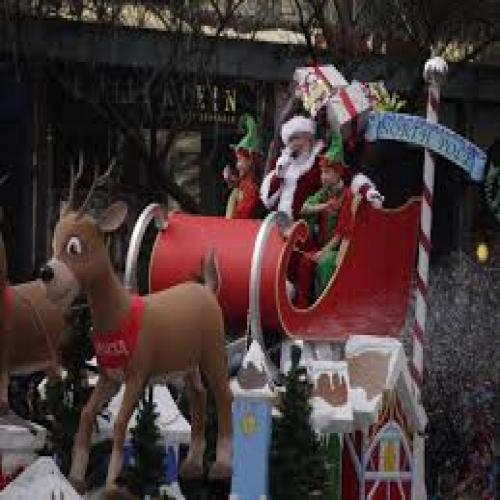Santa: (260, 98, 325, 218)
